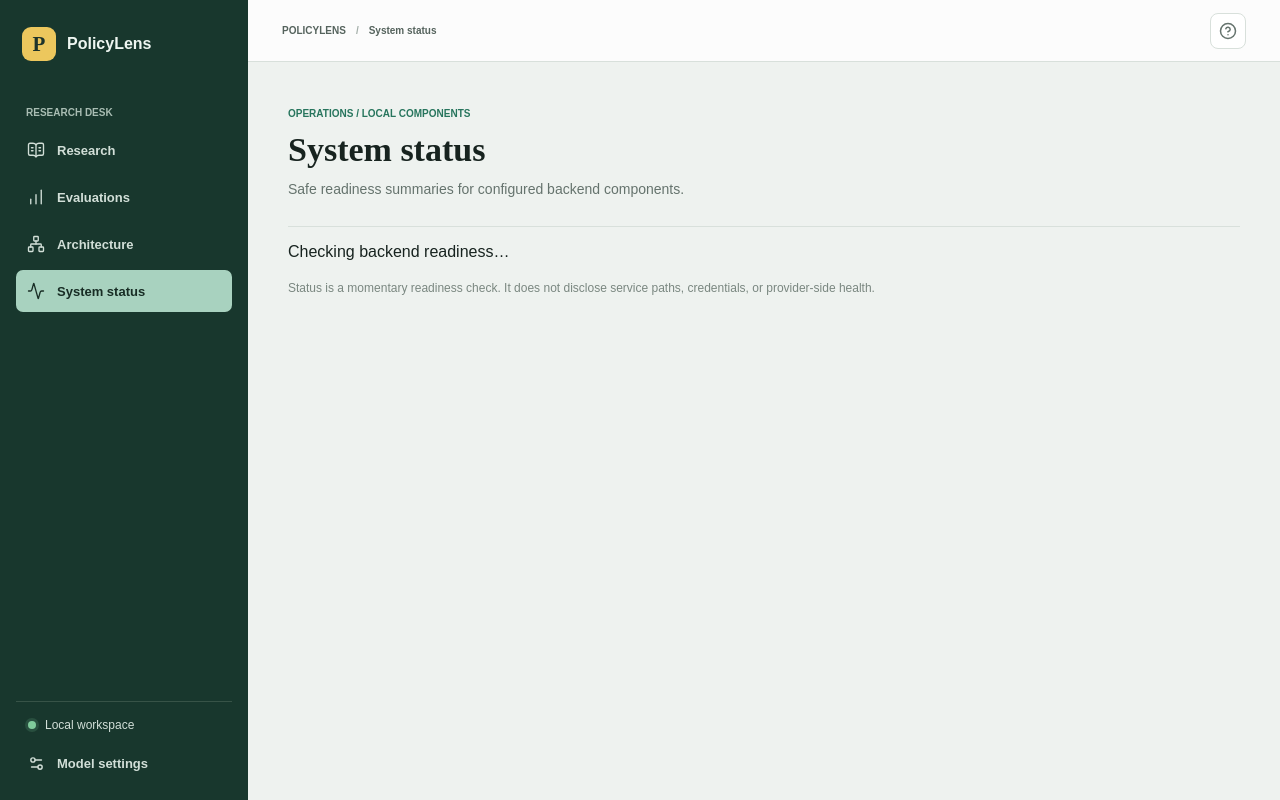
Test case: system status › distinguishes component status without showing backend internals
The width and height of the screenshot is (1280, 800).
Click the link "System status".
click(124, 291)  # box [16,270,232,312]
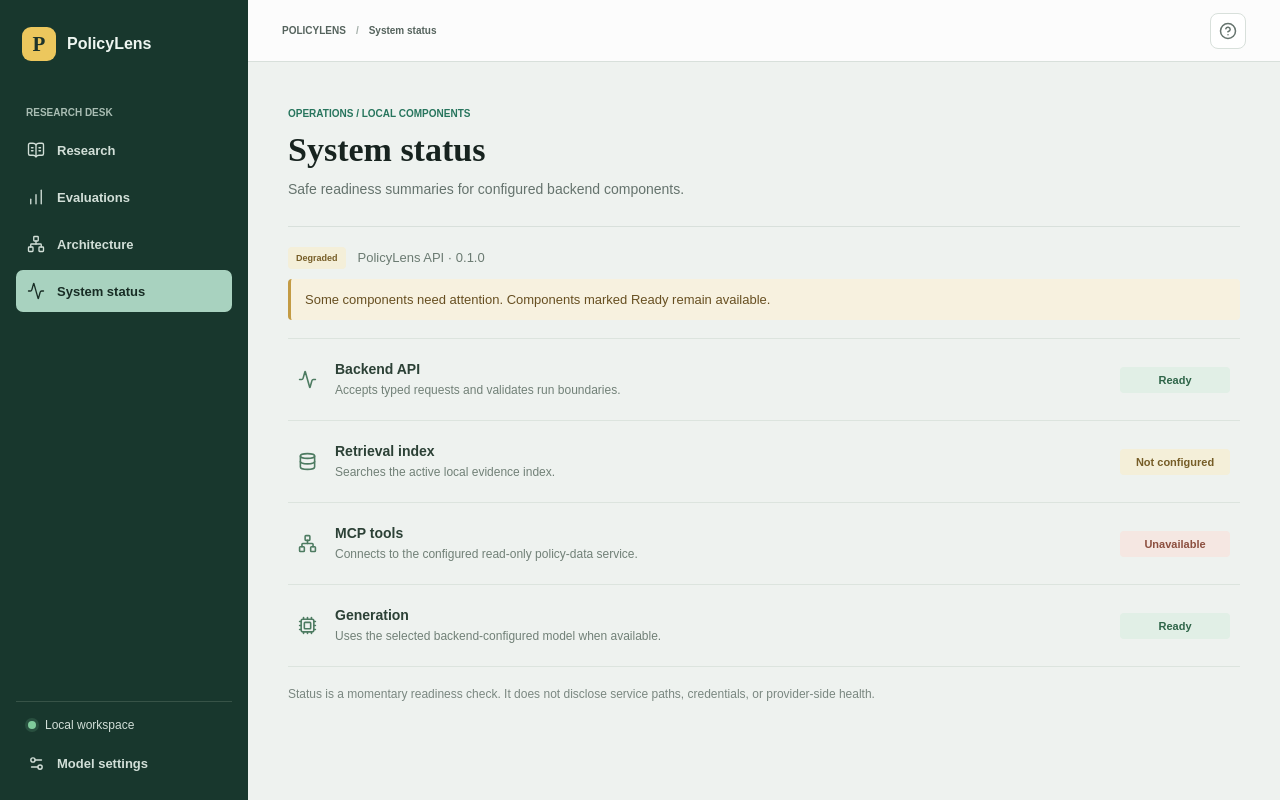
Check: the text "Degraded" is shown, box [288,247,346,269]
Check: the text "Not configured" is shown, box [1120,449,1230,475]
Check: the text "Unavailable" is shown, box [1120,531,1230,557]
